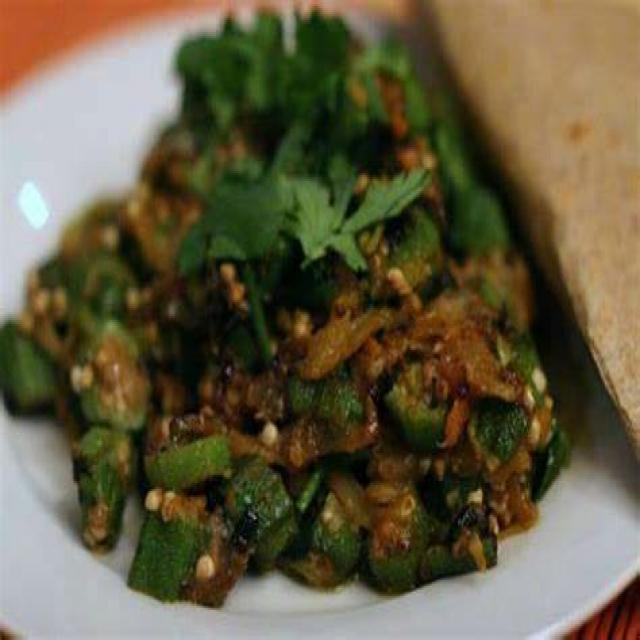BhindiMasala: (0, 4, 576, 608)
